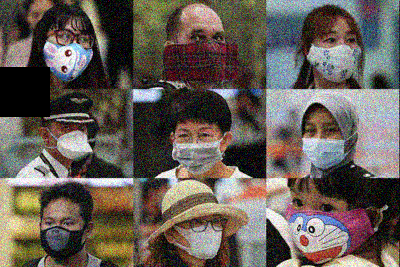with_mask: (288, 182, 368, 264), (176, 29, 228, 85), (44, 25, 95, 81), (312, 28, 360, 81), (41, 210, 88, 260), (177, 212, 227, 259), (175, 123, 225, 169), (302, 118, 346, 169), (50, 121, 89, 158)
